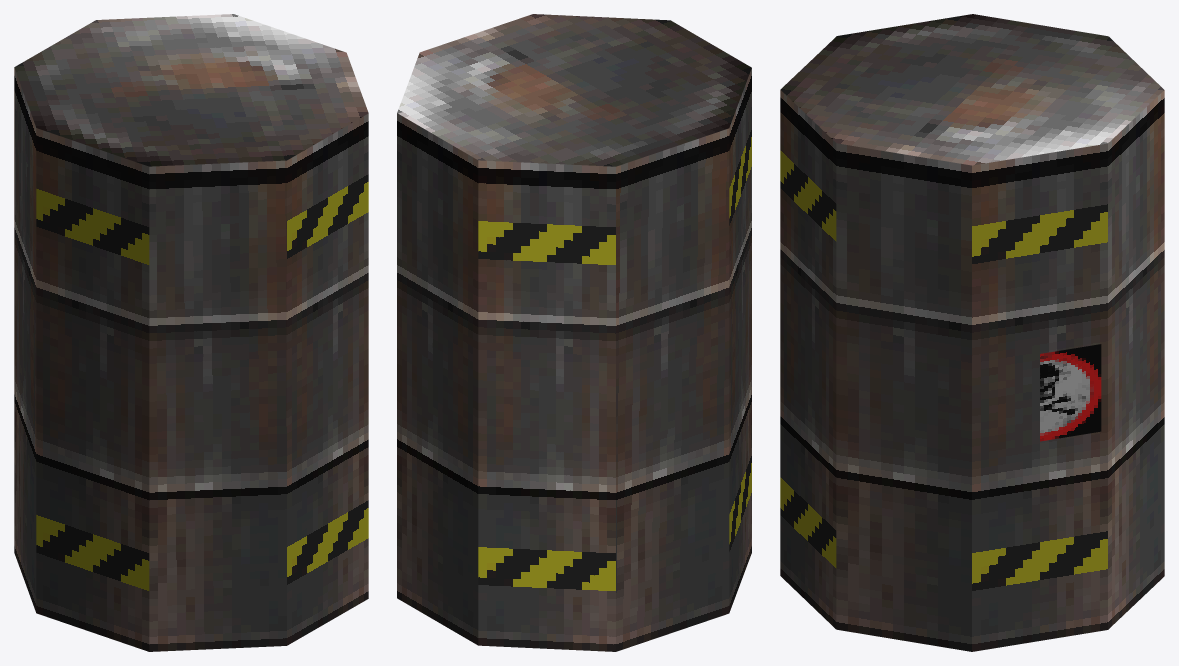
File: primary_152.glb
3 views of the same model, side by side, from view 1: azimuth 30°, elevation 25°; view 2: azimuth 150°, elevation 25°; view 3: azimuth 270°, elevation 25° (orthographic).
Parts seen in each view (by area): view 1: Object; view 2: Object; view 3: Object.
Boxes of the visible parts, box(x1,y1,x2,y2) form: Object: box(14, 14, 368, 651); Object: box(397, 14, 751, 651); Object: box(780, 14, 1164, 651).
Bounding box in the file's own units: 0.6793 × 1.02 × 0.7276.
9 materials, 9 textured.
